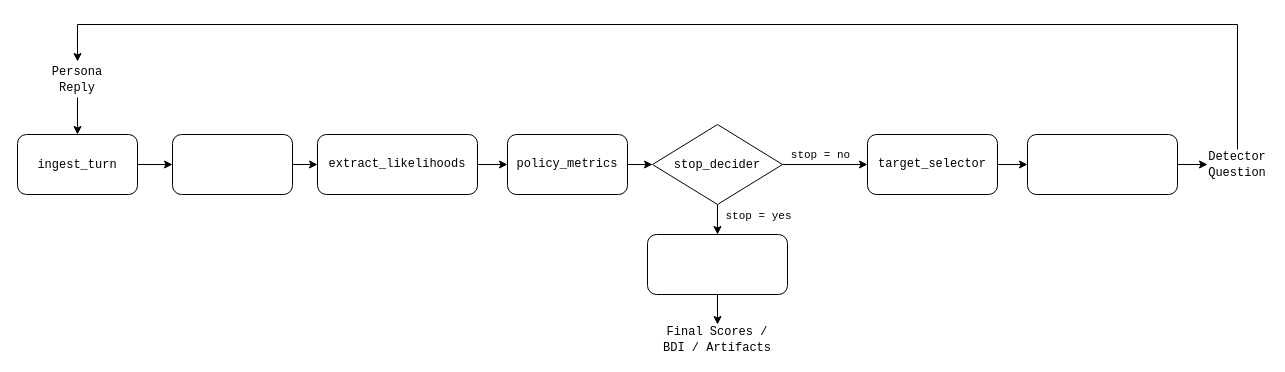
Some shapes in this 1285 by 372 pixel diagram are drawn without their labels. The shapes that lost their labels are listed below. From the top down, each one's centre as x and y in pixels, then its label:
At point 232,164: "risk_sentinel".
At point 1102,164: "question_generator".
At point 717,264: "finalize_outputs".
